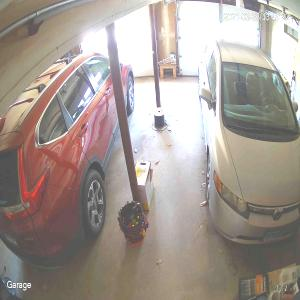honda civic: (197, 37, 300, 247)
honda crv: (0, 50, 135, 268)
tool bucket: (117, 198, 149, 247)
